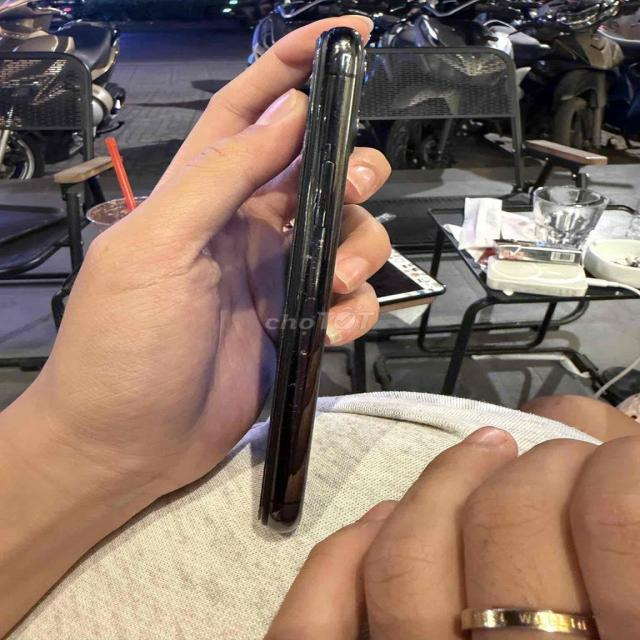scratch: (270, 354, 344, 446), (302, 199, 339, 323), (313, 72, 358, 134)
